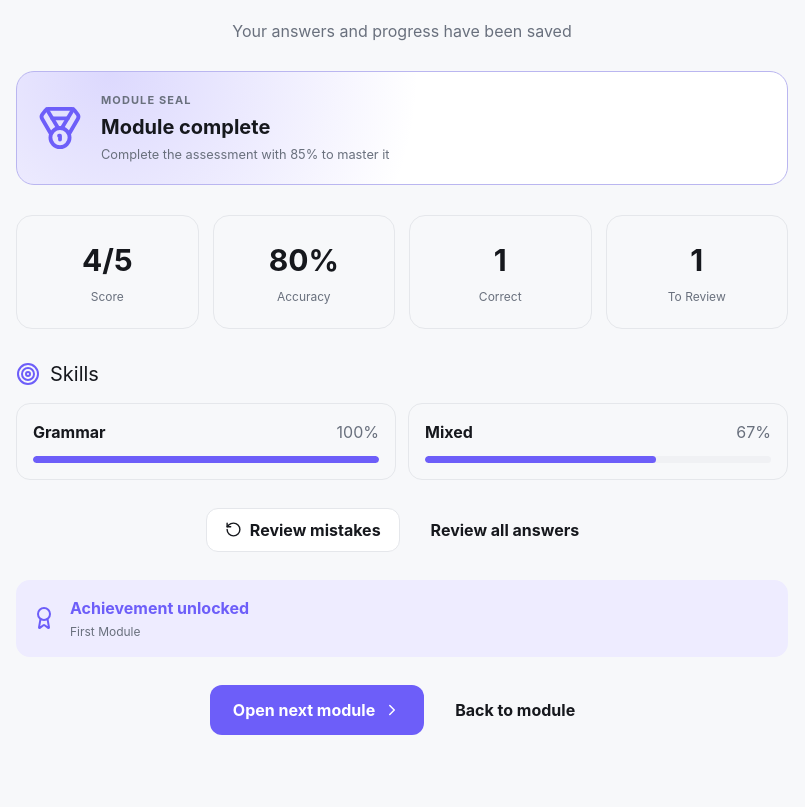
Scenario: LessonResult › opens a focused mistake review with the correct answer
(page scrolled)
Click the button "Review mistakes". click: (303,530)
box: [206, 508, 400, 552]
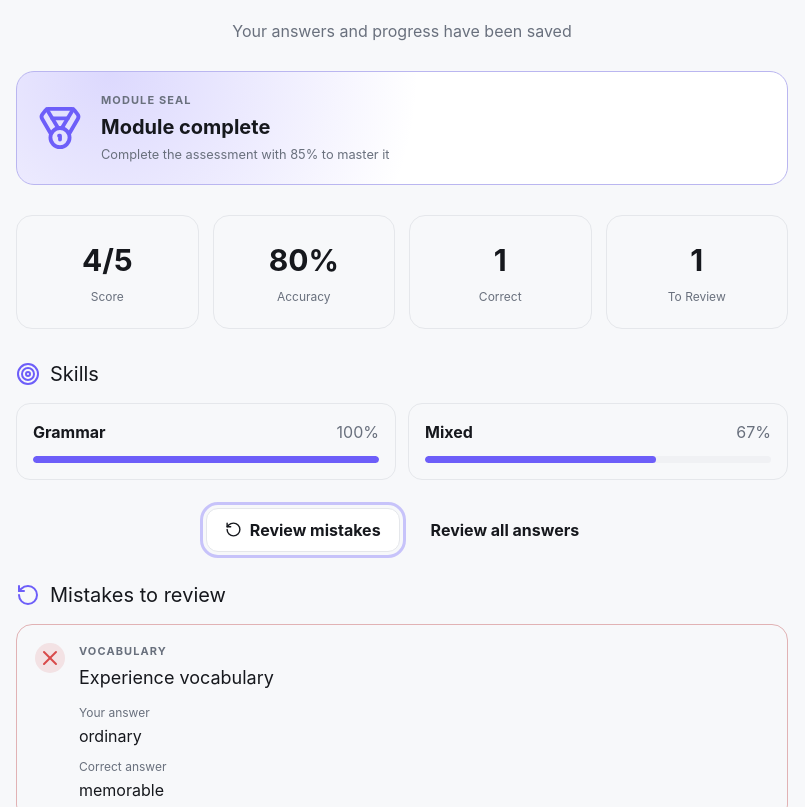
Result: the heading "Mistakes to review" is shown at [50, 580, 226, 610]
Result: the text "ordinary" is shown at [79, 726, 142, 746]
Result: the text "memorable" is shown at [79, 780, 164, 800]
